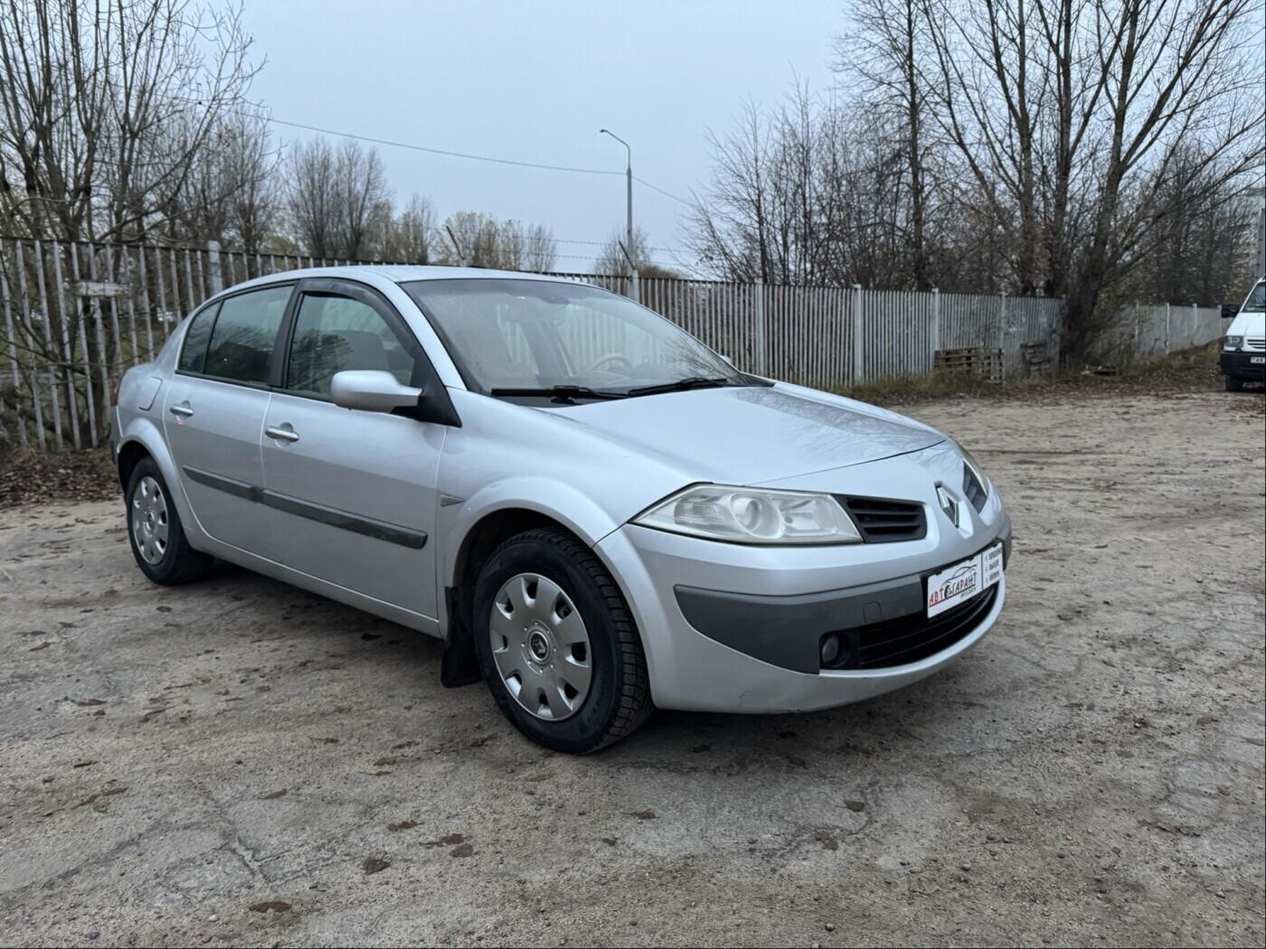Megane_2005-2009: (110, 260, 1018, 753)
